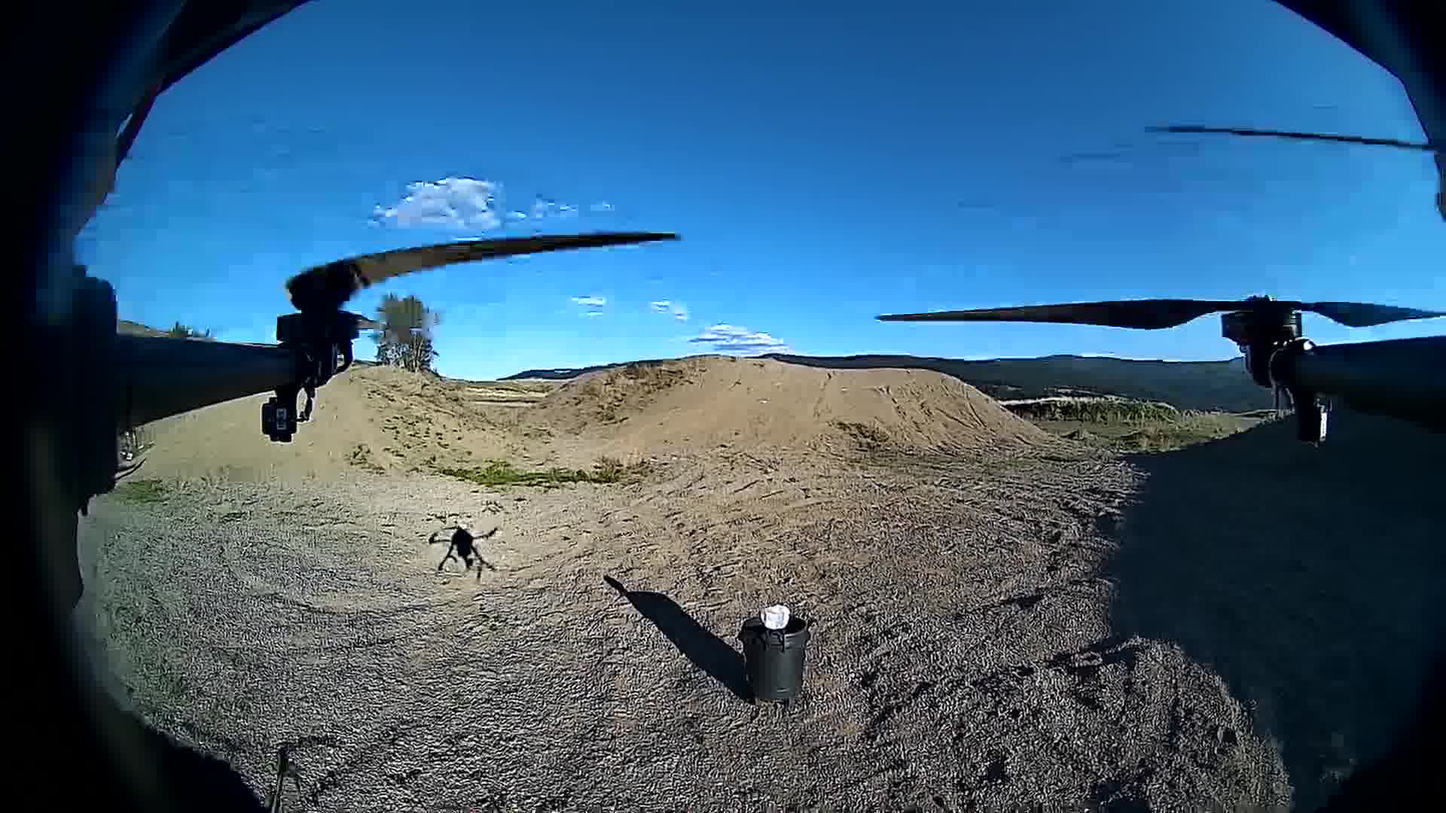Target: (757, 604, 792, 630)
